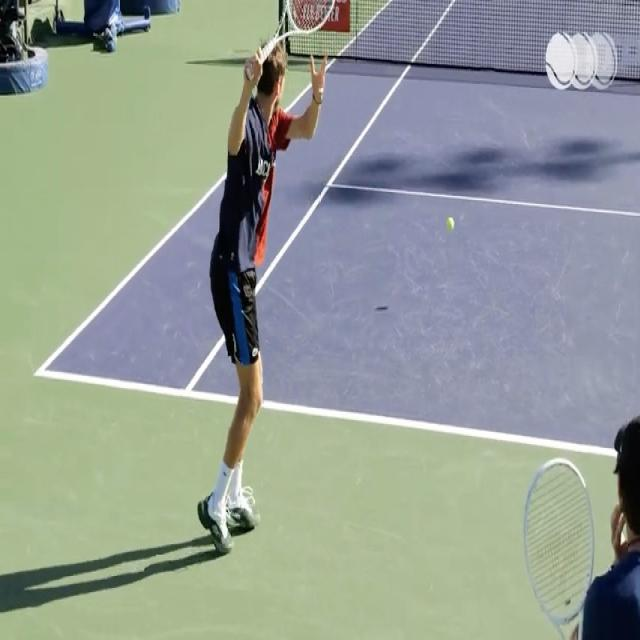forehand-ready: (199, 5, 362, 561)
